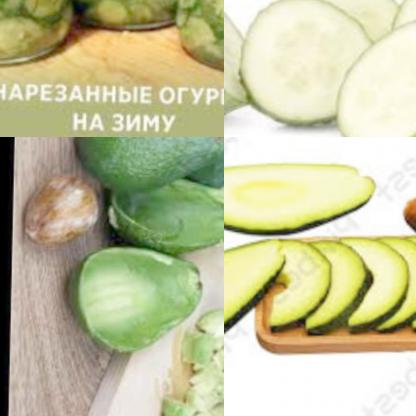avocado: (251, 208, 416, 351), (61, 245, 220, 361), (224, 140, 387, 232), (86, 174, 224, 257), (224, 235, 283, 384), (73, 137, 224, 172), (182, 293, 224, 416), (160, 137, 224, 192)
cucumber: (233, 0, 373, 129), (327, 16, 416, 137), (310, 0, 402, 59), (0, 0, 66, 58), (224, 0, 251, 127)
